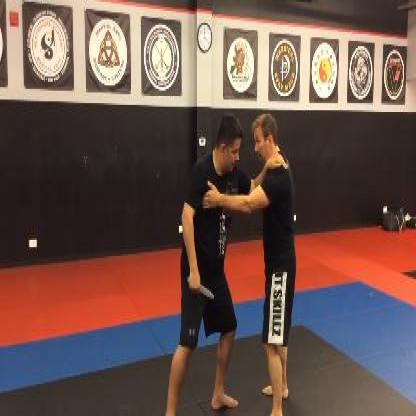knife: (186, 276, 214, 300)
